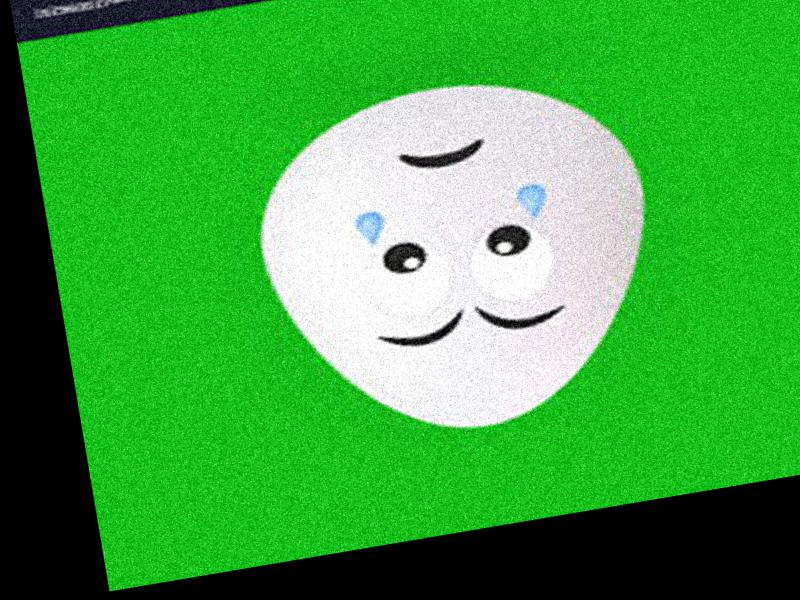Eggs: (243, 57, 679, 454)
